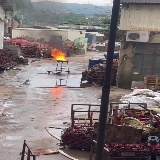fire: (51, 48, 68, 60)
